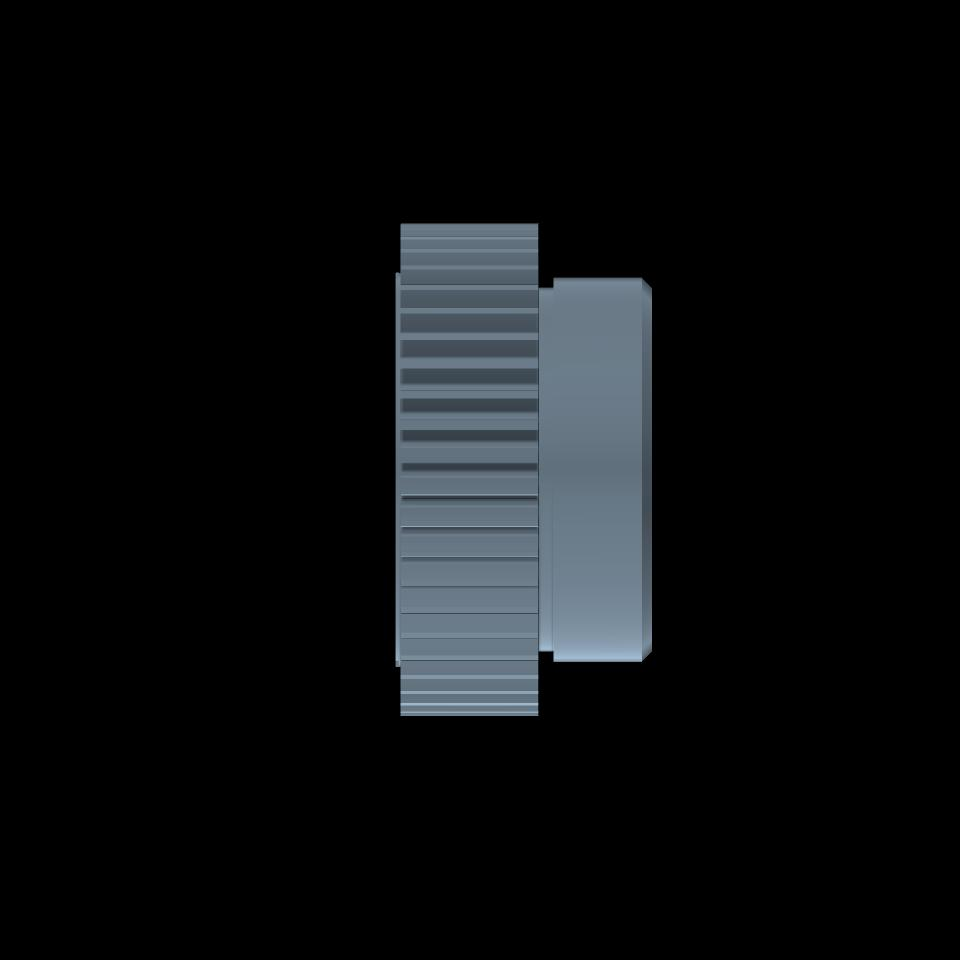Straight: (401, 224, 538, 715)
